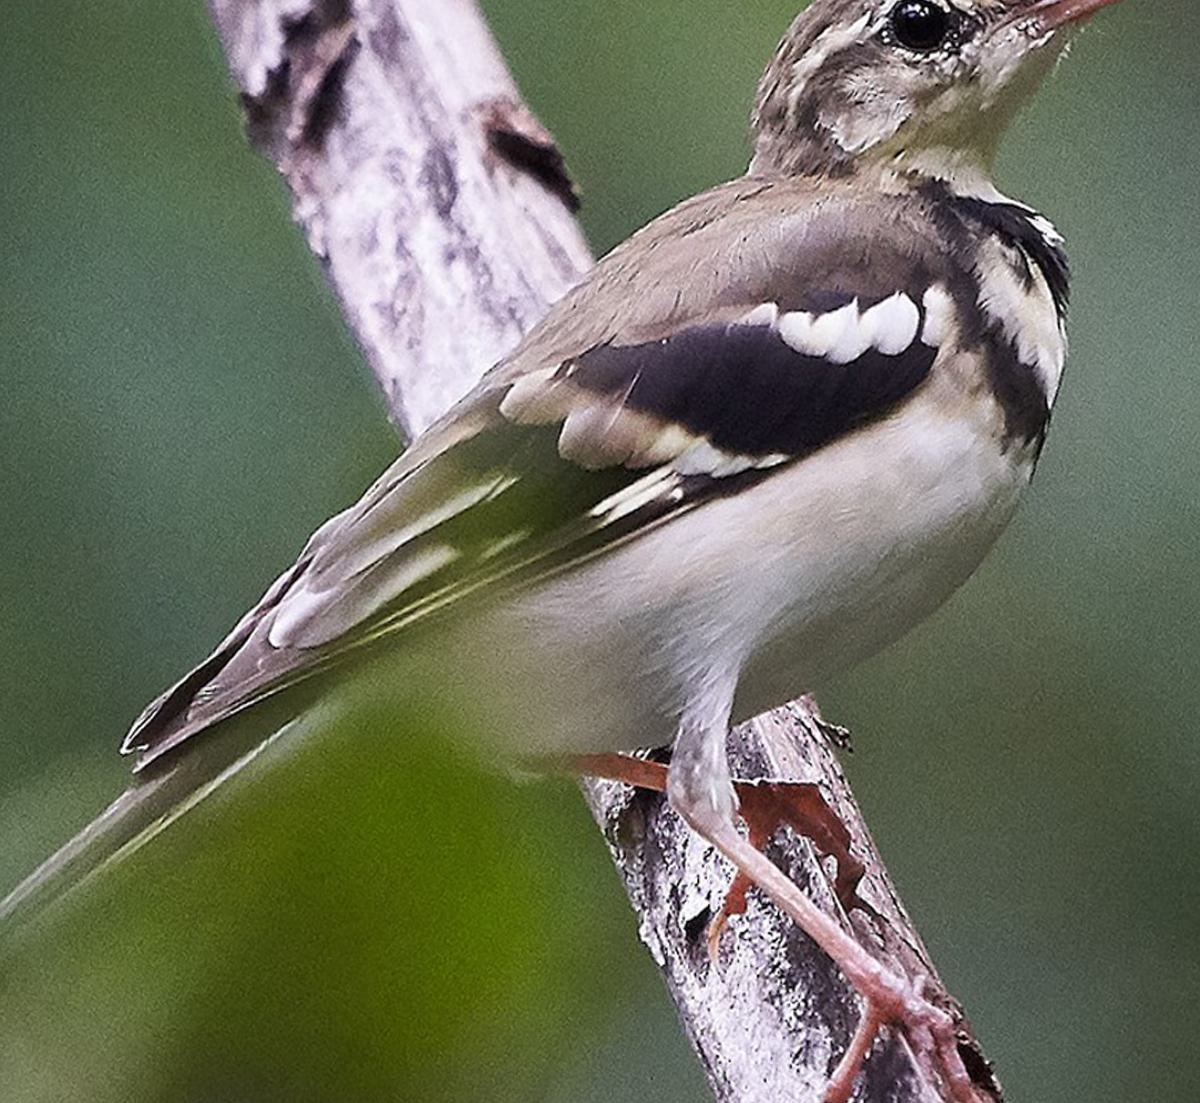wagtail: (72, 1, 1132, 835)
